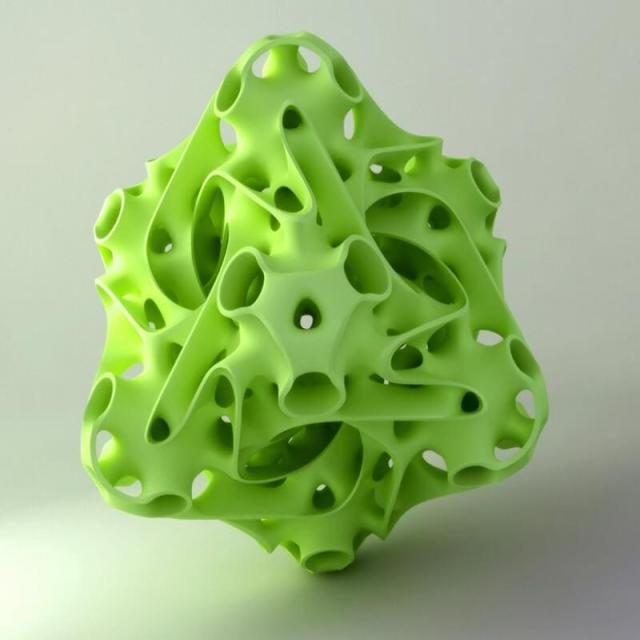Without deffect: (60, 28, 572, 612)
